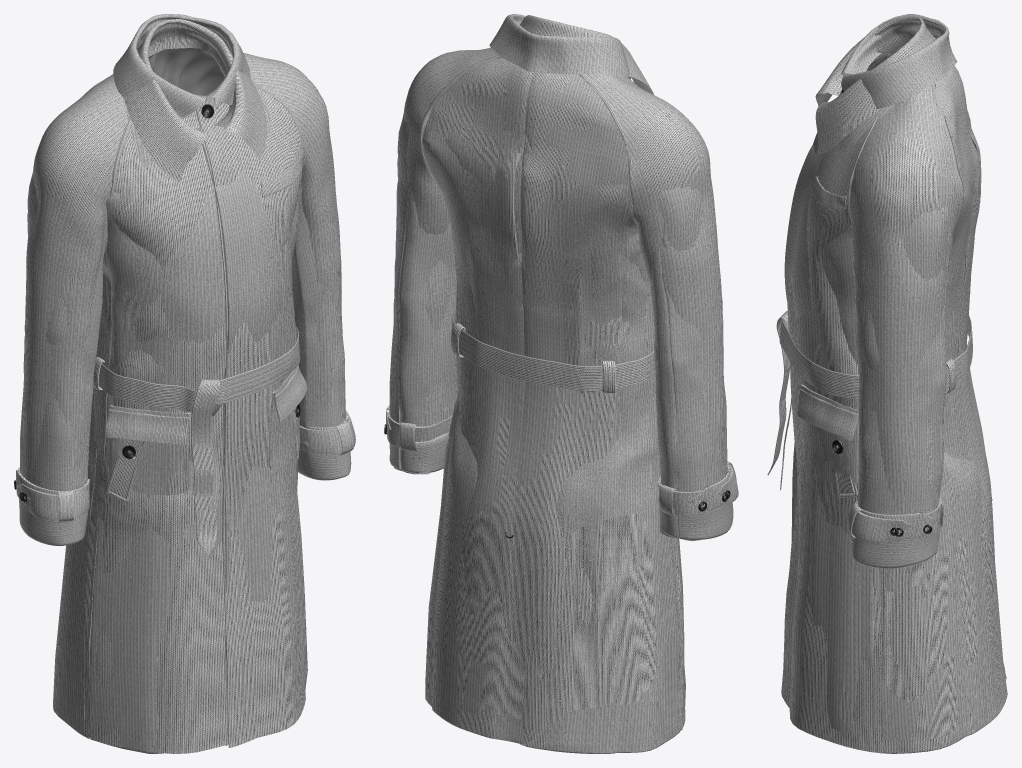
Rendered from Raglan.glb.
3 views of the same model, side by side, from view 1: azimuth 30°, elevation 25°; view 2: azimuth 150°, elevation 25°; view 3: azimuth 270°, elevation 25° (orthographic). The views are drawn at different scales.
Visible parts, largest first — view 1: 0mm_front, 2mm_front, 2mm_collar, Martingle_blet, Patch, 0mm_back, 00mm_collar, Full_Sleeve_Strap_with_buttons, cuffed, Lining, 2mm_back, slanted (+3 smaller); view 2: 0mm_back, 2mm_back, 0mm_inverted_pleat, 0mm_front, 2mm_front, Martingle_blet, 00mm_collar, cuffed, Full_Sleeve_Strap_with_buttons, 2mm_invert_box_pleat, 2mm_collar, line (+1 smaller); view 3: 0mm_front, 2mm_front, 0mm_back, 0mm_inverted_pleat, 2mm_back, 2mm_collar, 00mm_collar, Patch, Martingle_blet, cuffed, Full_Sleeve_Strap_with_buttons, Sleeve_Strap (+4 smaller).
Part boxes in pixels (x1=…): 0mm_front: x1=21, y1=53, x2=342, y2=753; 2mm_front: x1=20, y1=75, x2=345, y2=753; 2mm_collar: x1=124, y1=19, x2=266, y2=182; Martingle_blet: x1=93, y1=327, x2=300, y2=560; Patch: x1=105, y1=365, x2=307, y2=495; 0mm_back: x1=53, y1=389, x2=95, y2=735; 00mm_collar: x1=113, y1=14, x2=250, y2=118; Full_Sleeve_Strap_with_buttons: x1=17, y1=413, x2=355, y2=521; cuffed: x1=19, y1=441, x2=351, y2=545; Lining: x1=149, y1=48, x2=224, y2=95; 2mm_back: x1=86, y1=54, x2=153, y2=738; slanted: x1=106, y1=430, x2=300, y2=502; 0mm_back: x1=422, y1=57, x2=679, y2=753; 2mm_back: x1=445, y1=125, x2=682, y2=729; 0mm_inverted_pleat: x1=423, y1=60, x2=673, y2=753; 0mm_front: x1=394, y1=47, x2=724, y2=731; 2mm_front: x1=389, y1=76, x2=727, y2=728; Martingle_blet: x1=451, y1=310, x2=655, y2=393; 00mm_collar: x1=489, y1=14, x2=631, y2=79; cuffed: x1=389, y1=432, x2=733, y2=540; Full_Sleeve_Strap_with_buttons: x1=387, y1=411, x2=738, y2=516; 2mm_invert_box_pleat: x1=452, y1=142, x2=682, y2=730; 2mm_collar: x1=520, y1=15, x2=653, y2=94; line: x1=420, y1=55, x2=639, y2=226; 0mm_front: x1=781, y1=52, x2=959, y2=753; 2mm_front: x1=784, y1=45, x2=949, y2=737; 0mm_back: x1=881, y1=67, x2=1003, y2=740; 0mm_inverted_pleat: x1=882, y1=66, x2=1007, y2=753; 2mm_back: x1=873, y1=120, x2=994, y2=648; 2mm_collar: x1=815, y1=16, x2=935, y2=155; 00mm_collar: x1=841, y1=14, x2=957, y2=109; Patch: x1=797, y1=384, x2=858, y2=485; Martingle_blet: x1=767, y1=311, x2=972, y2=490; cuffed: x1=851, y1=530, x2=939, y2=568; Full_Sleeve_Strap_with_buttons: x1=847, y1=497, x2=943, y2=543; Sleeve_Strap: x1=856, y1=500, x2=937, y2=539.
Size of the model in its own units: 3.16 by 6.36 by 2.04.
9 materials, 8 textured.
